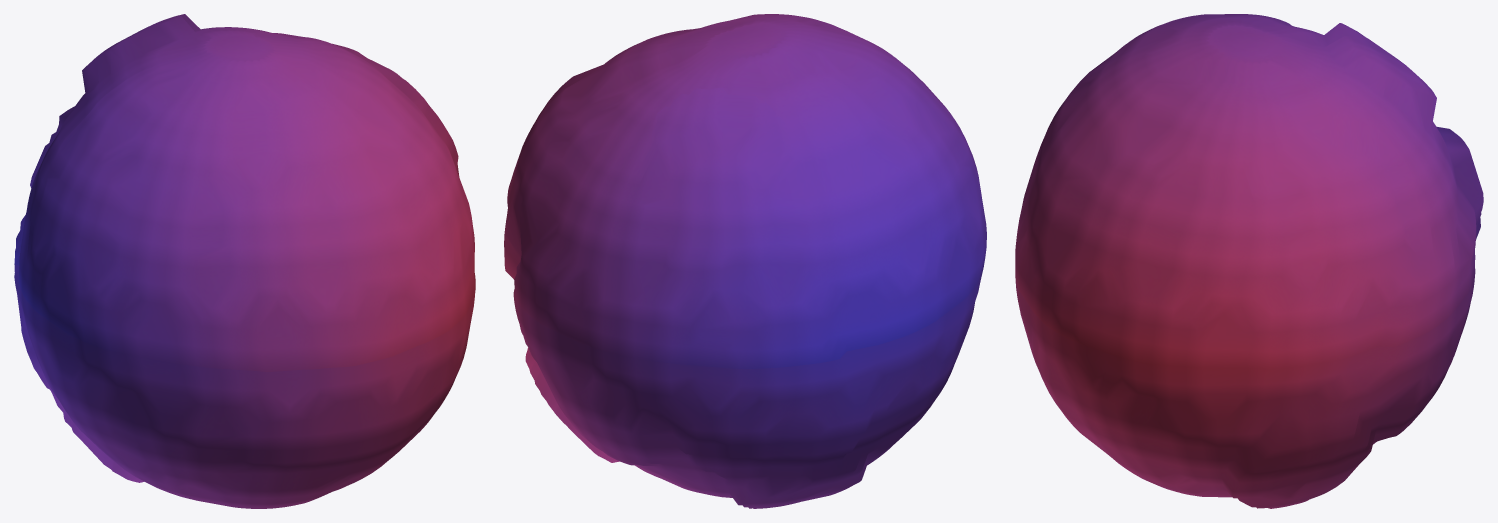
The model's file is Mode-01.gltf.
3 views of the same model, side by side, from view 1: azimuth 30°, elevation 25°; view 2: azimuth 150°, elevation 25°; view 3: azimuth 270°, elevation 25° (orthographic). The views are drawn at different scales.
Visible parts, largest first — view 1: Organism; view 2: Organism; view 3: Organism.
Boxes of the visible parts, x1=… form: Organism: x1=14, y1=14, x2=475, y2=508; Organism: x1=504, y1=14, x2=986, y2=508; Organism: x1=1015, y1=14, x2=1483, y2=508.
Size of the model in its own units: 1.63 by 1.69 by 1.65.
Materials: 1 (1 with a texture image).
